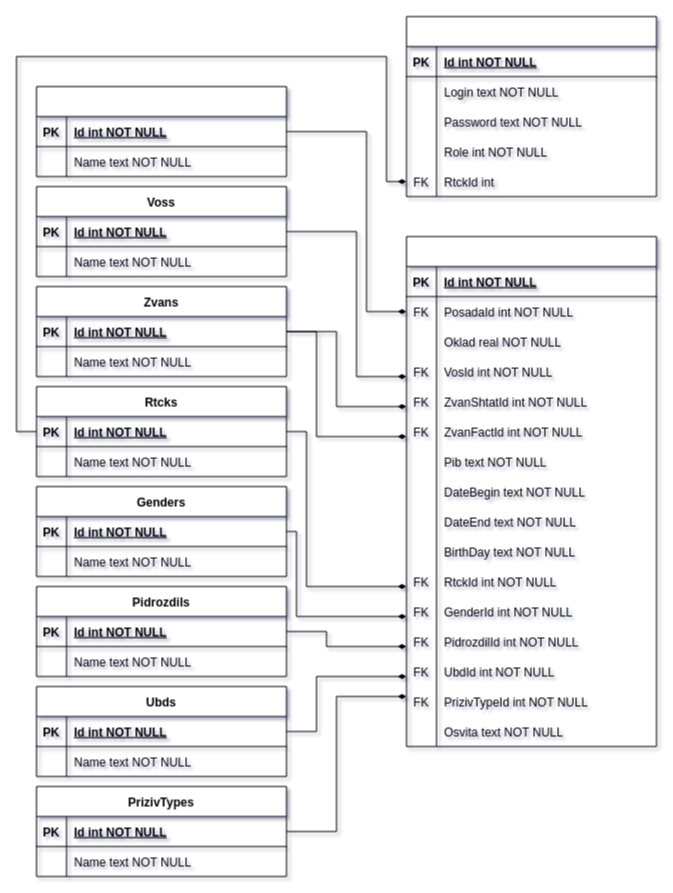
This 673x893 diagram has some shape labels left out. Each missing label, with the box of its shape:
Militarists: (406, 236, 656, 746)
Posadas: (36, 86, 286, 176)
Users: (406, 16, 656, 196)
